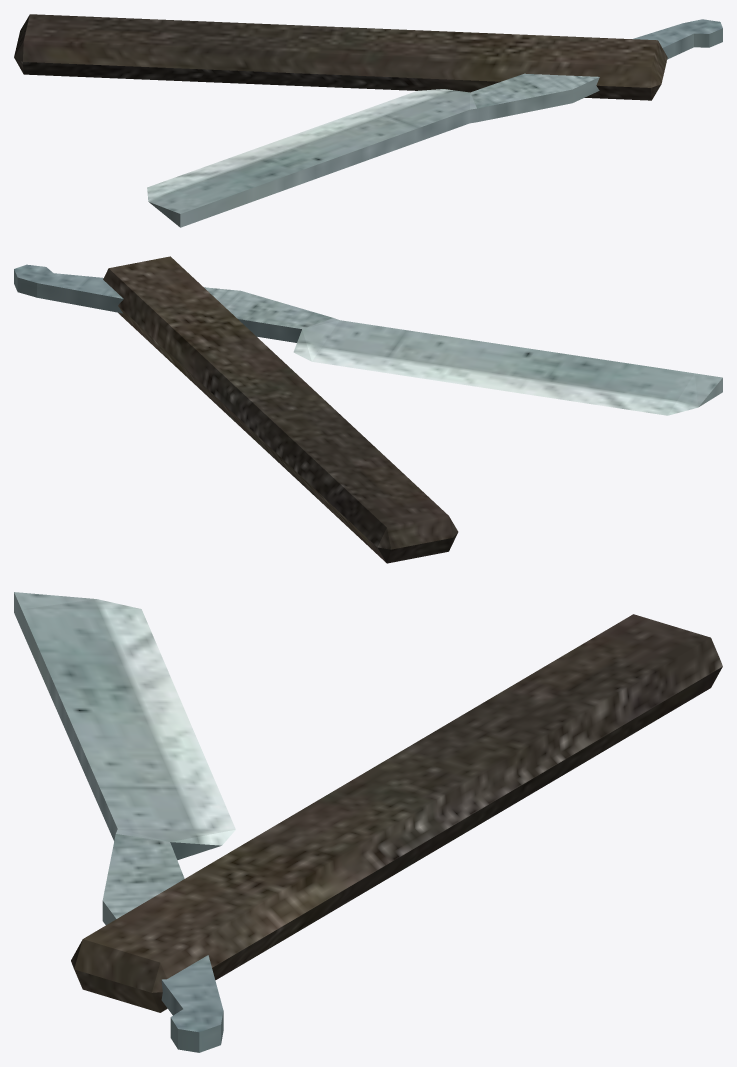
File: ITMI_STUFF_BARBKNIFE_01.glb
The picture shows the model from 3 angles, top to bottom: view 1: azimuth 30°, elevation 25°; view 2: azimuth 150°, elevation 25°; view 3: azimuth 270°, elevation 25°; orthographic projection. The views are drawn at different scales.
Visible parts, largest first — view 1: ITMI_STUFF_BARBKNIFE_01; view 2: ITMI_STUFF_BARBKNIFE_01; view 3: ITMI_STUFF_BARBKNIFE_01.
Boxes of the visible parts, x1,y1,x2,y2 form: ITMI_STUFF_BARBKNIFE_01: (14, 14, 722, 227); ITMI_STUFF_BARBKNIFE_01: (14, 256, 722, 563); ITMI_STUFF_BARBKNIFE_01: (14, 592, 722, 1052).
Bounding box in the file's own units: 0.4321 × 0.0229 × 0.2919.
2 materials, 2 textured.
